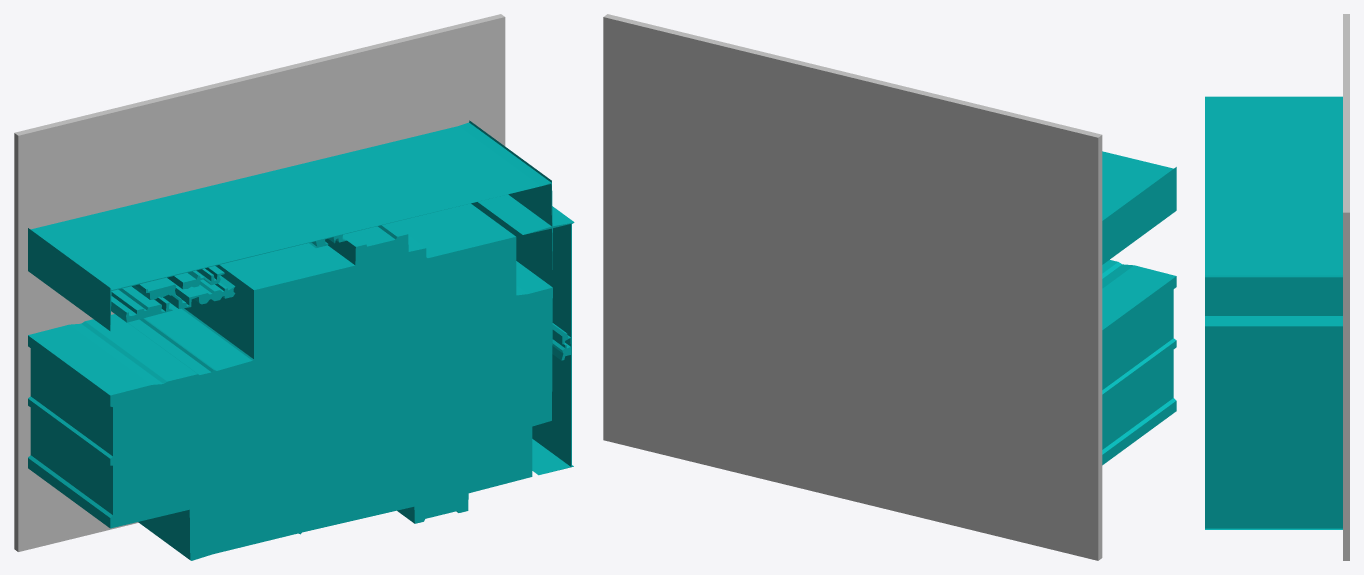
3 views of the same model, side by side, from view 1: azimuth 30°, elevation 25°; view 2: azimuth 150°, elevation 25°; view 3: azimuth 270°, elevation 25° (orthographic). The views are drawn at different scales.
Parts seen in each view (by area): view 1: world; view 2: world; view 3: world.
Boxes of the visible parts, bbox=[...] form: world: bbox=[14, 14, 574, 560]; world: bbox=[603, 14, 1176, 560]; world: bbox=[1205, 14, 1349, 560].
Bounding box in the file's own units: 10.23 × 8.36 × 3.15.
